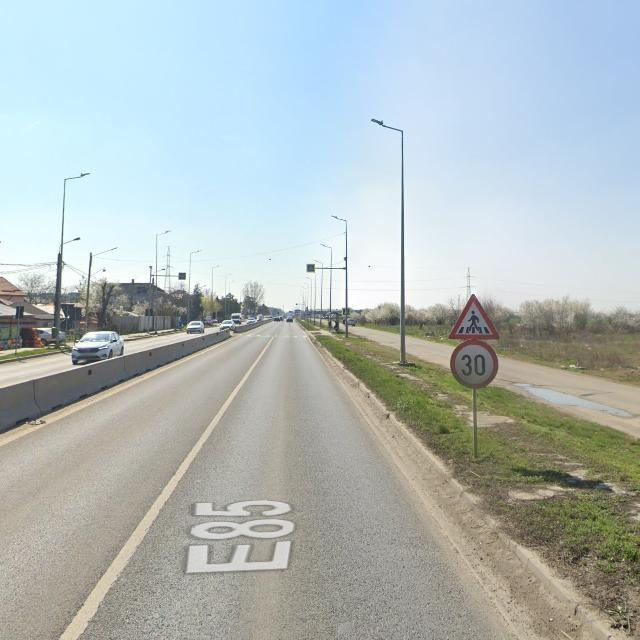forb_speed_over_30: (451, 341, 499, 389)
warn_crosswalk: (448, 294, 500, 342)
